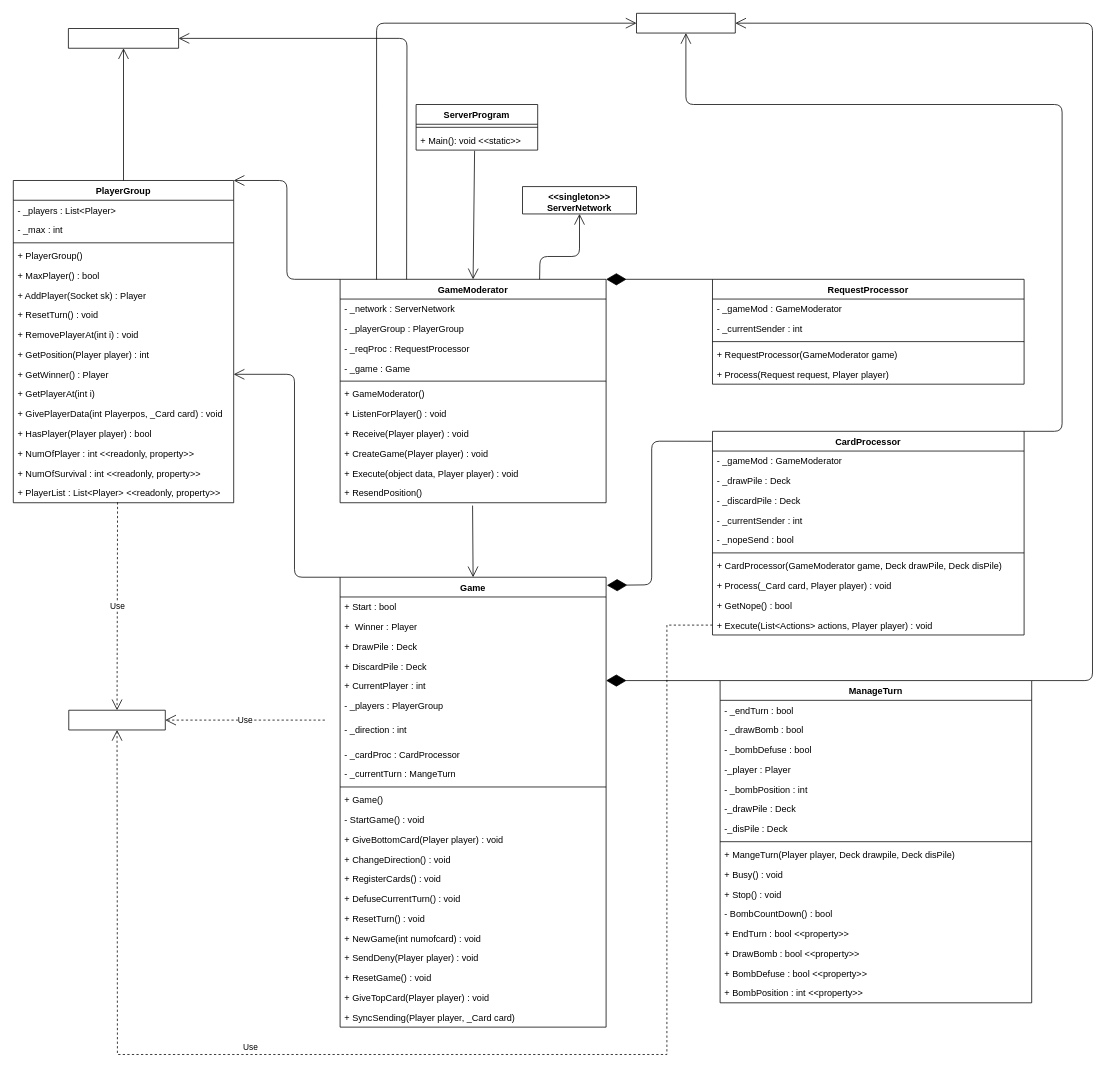
Some shapes in this 1116 by 1078 pixel diagram are drawn without their labels. The shapes that lost their labels are listed below. From the top down, each one's centre as x and y in pixels, then its label:
the point at 123,38: Player
the point at 685,23: Deck
the point at 116,719: Card
